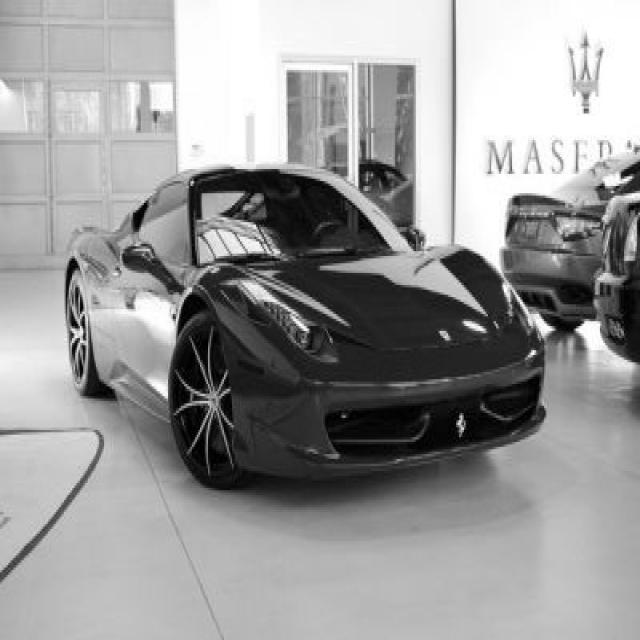car: (62, 160, 548, 490), (499, 142, 638, 331)
